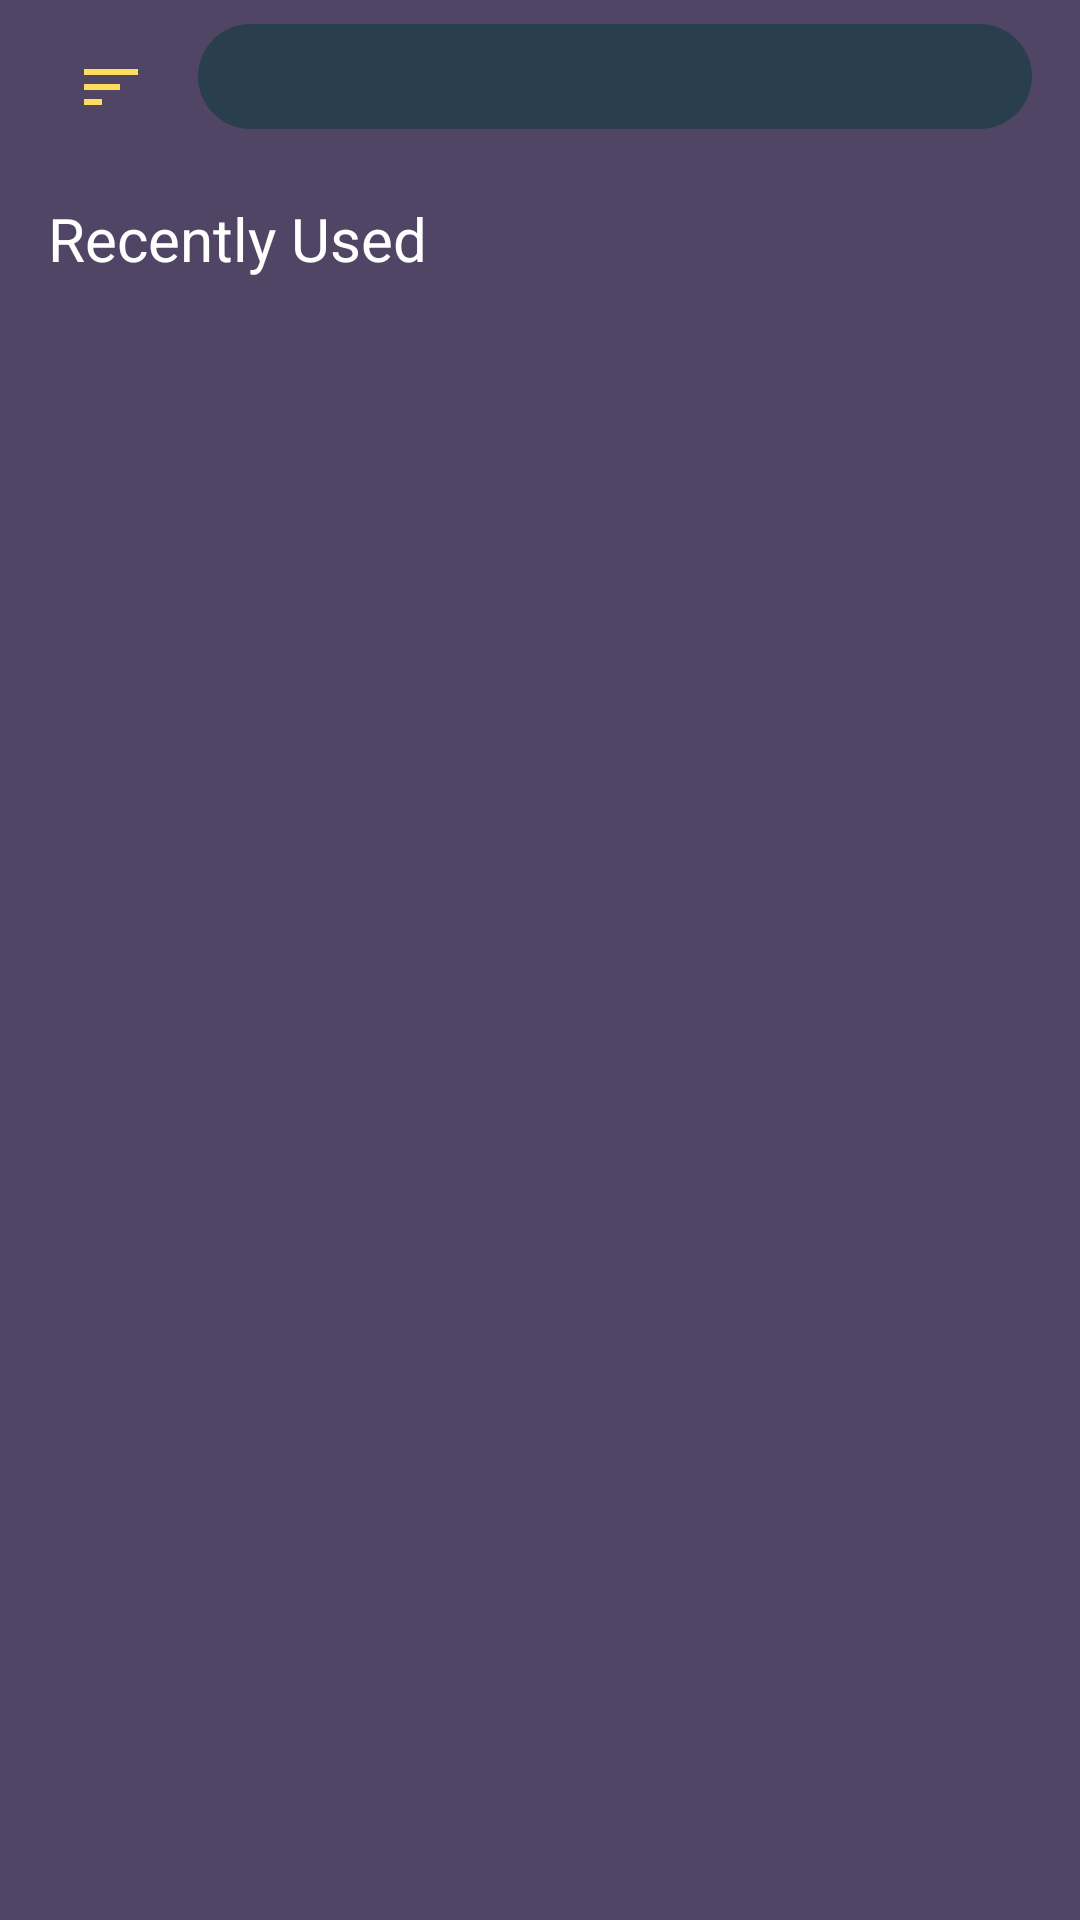

Screen size 1080px x 1920px. Icon name, then its center in pixels as [x,y]:
sort: [111,87]
